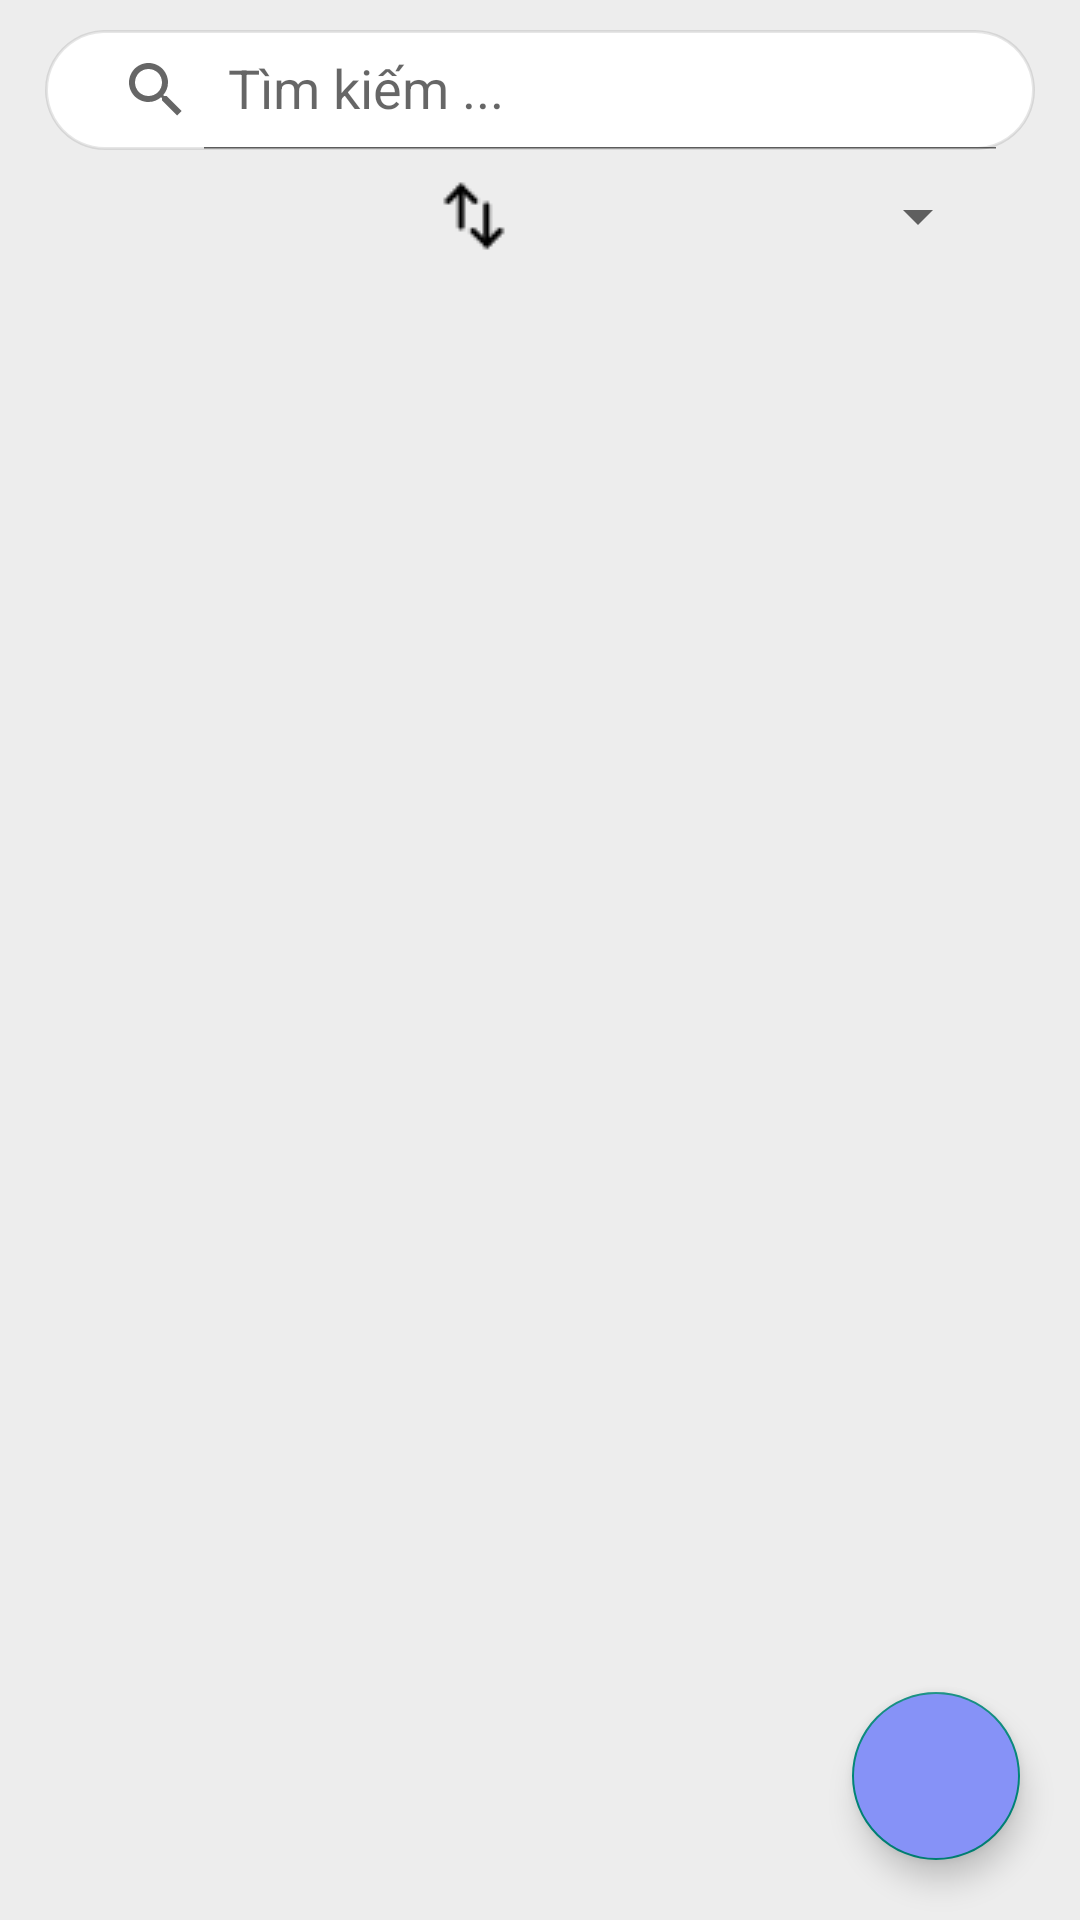

Point at icon controls on the screen. Image size 1080*1920, points as [x,y].
sort: [474,216]
